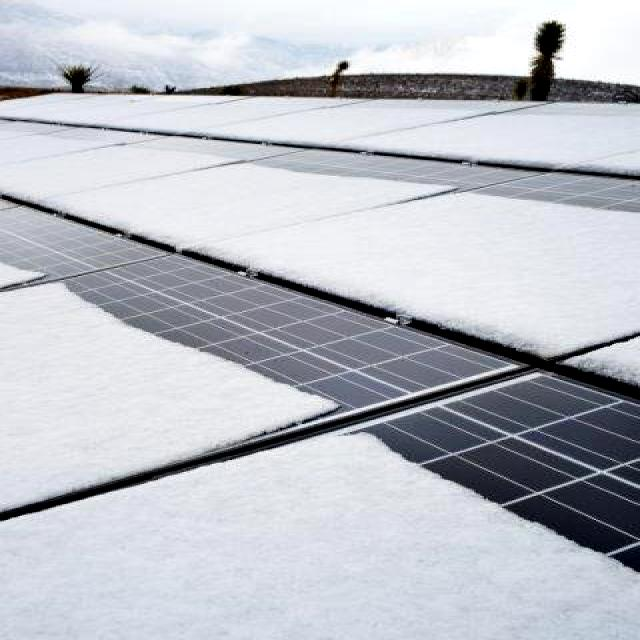panel: (152, 177, 326, 310), (12, 442, 276, 512), (342, 260, 526, 360), (225, 351, 396, 456), (488, 487, 640, 601), (346, 426, 514, 518), (470, 150, 640, 228), (310, 121, 473, 202), (164, 95, 318, 178), (372, 86, 622, 130), (4, 244, 118, 337), (19, 172, 140, 250), (100, 314, 249, 374), (542, 320, 640, 404), (76, 95, 184, 161), (180, 84, 348, 121), (6, 95, 81, 139)
